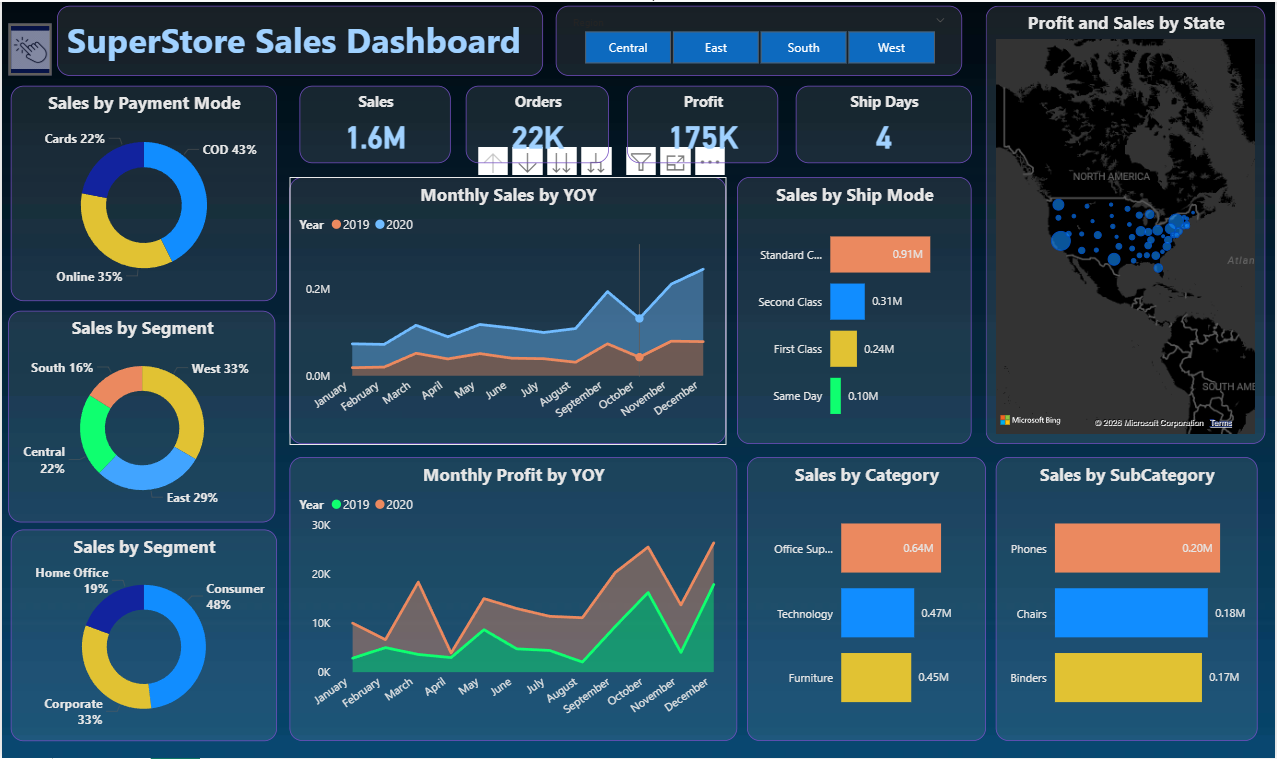

This screenshot's page, from the dashboard's own definition file:
{"tool":"powerbi","page":{"name":"Dashboard","canvas":[1380,820],"ordinal":0},"visuals":[{"type":"clusteredBarChart","title":"Sales by Category","fields":{"Category":["SuperStore_Sales_Dataset.Category"],"Y":["Sum(SuperStore_Sales_Dataset.Sales)"]},"box":[807.8,494.1,258.9,307.7],"z":0},{"type":"clusteredBarChart","title":"Sales by SubCategory","fields":{"Category":["SuperStore_Sales_Dataset.Sub-Category"],"Y":["Sum(SuperStore_Sales_Dataset.Sales)"]},"box":[1078.5,494.1,284,307.7],"z":1000},{"type":"clusteredBarChart","title":"Sales by Ship Mode","fields":{"Category":["SuperStore_Sales_Dataset.Ship Mode"],"Y":["Sum(SuperStore_Sales_Dataset.Sales)"]},"box":[797.4,189.4,254.5,290],"z":2000},{"type":"stackedAreaChart","title":"Monthly Sales by YOY","fields":{"Category":["SuperStore_Sales_Dataset.Order Date.Variation.Date Hierarchy.Month","SuperStore_Sales_Dataset.Order Date.Variation.Date Hierarchy.Day"],"Y":["Sum(SuperStore_Sales_Dataset.Sales)"],"Series":["SuperStore_Sales_Dataset.Order Date.Variation.Date Hierarchy.Year"]},"box":[312.2,189.4,473.4,290],"z":3000},{"type":"stackedAreaChart","title":"Monthly Profit by YOY","fields":{"Category":["SuperStore_Sales_Dataset.Order Date.Variation.Date Hierarchy.Month","SuperStore_Sales_Dataset.Order Date.Variation.Date Hierarchy.Day"],"Series":["SuperStore_Sales_Dataset.Order Date.Variation.Date Hierarchy.Year"],"Y":["Sum(SuperStore_Sales_Dataset.Profit)"]},"box":[312.2,494.1,485.3,307.7],"z":4000},{"type":"map","title":"Profit and Sales by State","fields":{"Category":["SuperStore_Sales_Dataset.State"],"Size":["Sum(SuperStore_Sales_Dataset.Sales)"]},"box":[1066.7,4.4,303.3,474.9],"z":5000},{"type":"donutChart","title":"Sales by Segment","fields":{"Category":["SuperStore_Sales_Dataset.Segment"],"Y":["Sum(SuperStore_Sales_Dataset.Sales)"]},"box":[8.9,572.5,288.5,229.3],"z":6000},{"type":"donutChart","title":"Sales by Payment Mode","fields":{"Category":["SuperStore_Sales_Dataset.Payment Mode"],"Y":["Sum(SuperStore_Sales_Dataset.Sales)"]},"box":[8.9,90.2,288.5,233.7],"z":7000},{"type":"slicer","fields":{"Values":["SuperStore_Sales_Dataset.Region"]},"box":[600.6,4.1,440.6,75.9],"z":8000},{"type":"textbox","box":[59.7,4.1,527.4,75.9],"z":9000},{"type":"card","title":"Sales","fields":{"Values":["Sum(SuperStore_Sales_Dataset.Sales)"]},"box":[322.5,90.2,164.2,84.3],"z":10000},{"type":"card","title":"Orders","fields":{"Values":["Sum(SuperStore_Sales_Dataset.Quantity)"]},"box":[503,90.2,155.3,84.3],"z":11000},{"type":"card","title":"Ship Days","fields":{"Values":["Avg(SuperStore_Sales_Dataset.AvgDelivery)"]},"box":[861,90.2,190.8,84.3],"z":12000},{"type":"card","title":"Profit","fields":{"Values":["Sum(SuperStore_Sales_Dataset.Profit)"]},"box":[677.6,90.2,164.2,84.3],"z":13000},{"type":"donutChart","title":"Sales by Segment","fields":{"Category":["SuperStore_Sales_Dataset.Region"],"Y":["Sum(SuperStore_Sales_Dataset.Sales)"]},"box":[7.4,334.3,290,229.3],"z":14000},{"type":"actionButton","box":[6.8,23,47.5,56.9],"z":15000}]}

Visuals, with their boxes in screenshot pixels (x1, y1, x2, y2), scaled from the page's 1380x820 canvas onto the 1277x759 screenshot:
"Sales by Category" clusteredBarChart: {"x1": 748, "y1": 457, "x2": 987, "y2": 742}
"Sales by SubCategory" clusteredBarChart: {"x1": 998, "y1": 457, "x2": 1261, "y2": 742}
"Sales by Ship Mode" clusteredBarChart: {"x1": 738, "y1": 175, "x2": 973, "y2": 444}
"Monthly Sales by YOY" stackedAreaChart: {"x1": 289, "y1": 175, "x2": 727, "y2": 444}
"Monthly Profit by YOY" stackedAreaChart: {"x1": 289, "y1": 457, "x2": 738, "y2": 742}
"Profit and Sales by State" map: {"x1": 987, "y1": 4, "x2": 1268, "y2": 444}
"Sales by Segment" donutChart: {"x1": 8, "y1": 530, "x2": 275, "y2": 742}
"Sales by Payment Mode" donutChart: {"x1": 8, "y1": 83, "x2": 275, "y2": 300}
slicer - SuperStore_Sales_Dataset.Region: {"x1": 556, "y1": 4, "x2": 963, "y2": 74}
textbox: {"x1": 55, "y1": 4, "x2": 543, "y2": 74}
"Sales" card: {"x1": 298, "y1": 83, "x2": 450, "y2": 162}
"Orders" card: {"x1": 465, "y1": 83, "x2": 609, "y2": 162}
"Ship Days" card: {"x1": 797, "y1": 83, "x2": 973, "y2": 162}
"Profit" card: {"x1": 627, "y1": 83, "x2": 779, "y2": 162}
"Sales by Segment" donutChart: {"x1": 7, "y1": 309, "x2": 275, "y2": 522}
actionButton: {"x1": 6, "y1": 21, "x2": 50, "y2": 74}
